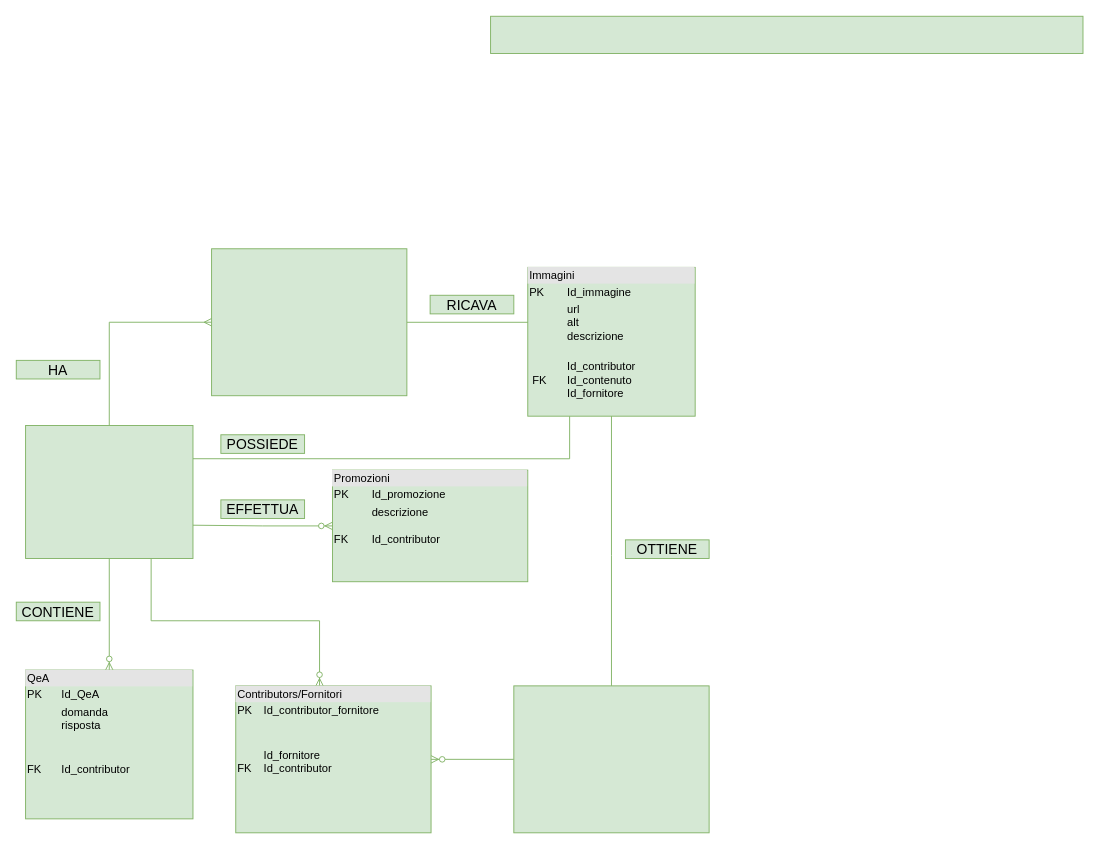
The diagram is 1099 pixels wide and 849 high, and some of its shapes have lost their labels. Here are the shapes that lost their labels. From the top down, the box of each, then its label:
(490, 15, 1083, 53): SCHEMA LOGICO
(211, 248, 407, 396): Contenuti PK Id_contenuto FK head foot Id_contributor
(25, 425, 193, 558): Contributors PK Id_contributor nome descrizione partita_iva css url_webservice
(513, 685, 709, 833): Fornitori PK Id_fornitore href nome url_webservice
